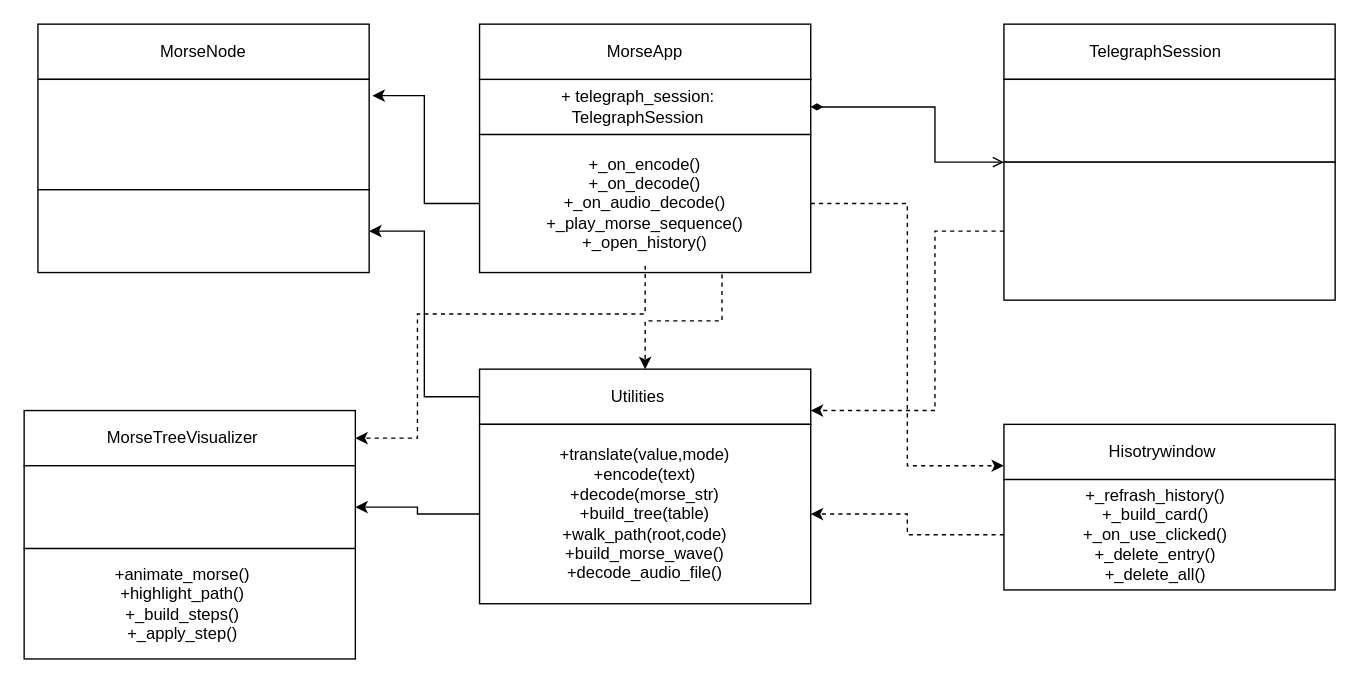
This 1359x683 diagram has some shape labels left out. Here are the shapes that lost their labels. From the top down, the centre of each, then its label:
point (203, 134): +char: str +dot: Optional[MorseNode] +dash:Optional[MorseNode]
point (1169, 120): +current_symbols: str + decoded_text:str
point (203, 230): Recursive binary tree node. Dot child handles ".", dash child handles "-"
point (1169, 230): +add_dot() +add_dash() +commit_character() +add_space() +reset()
point (189, 506): +canvas: tk.Canvas +node_items, edge_items +node_positions
